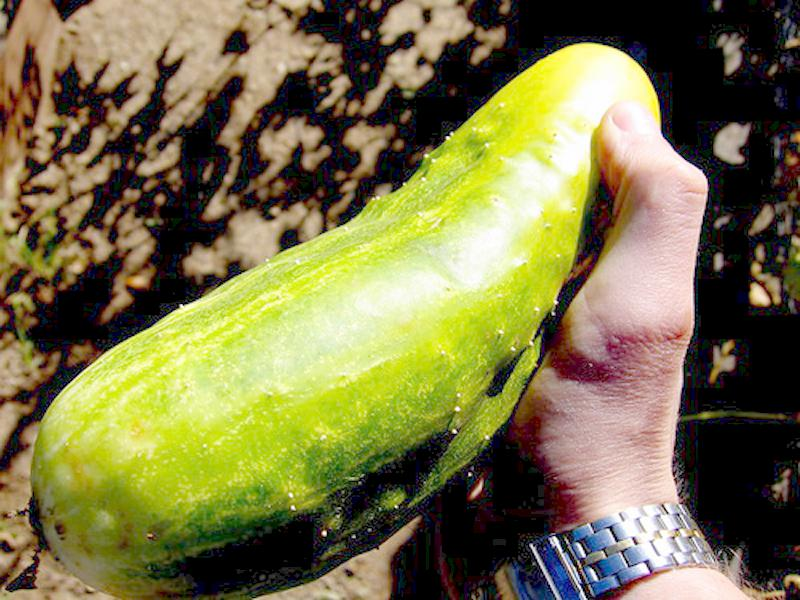Cucumber: (28, 44, 660, 600)
